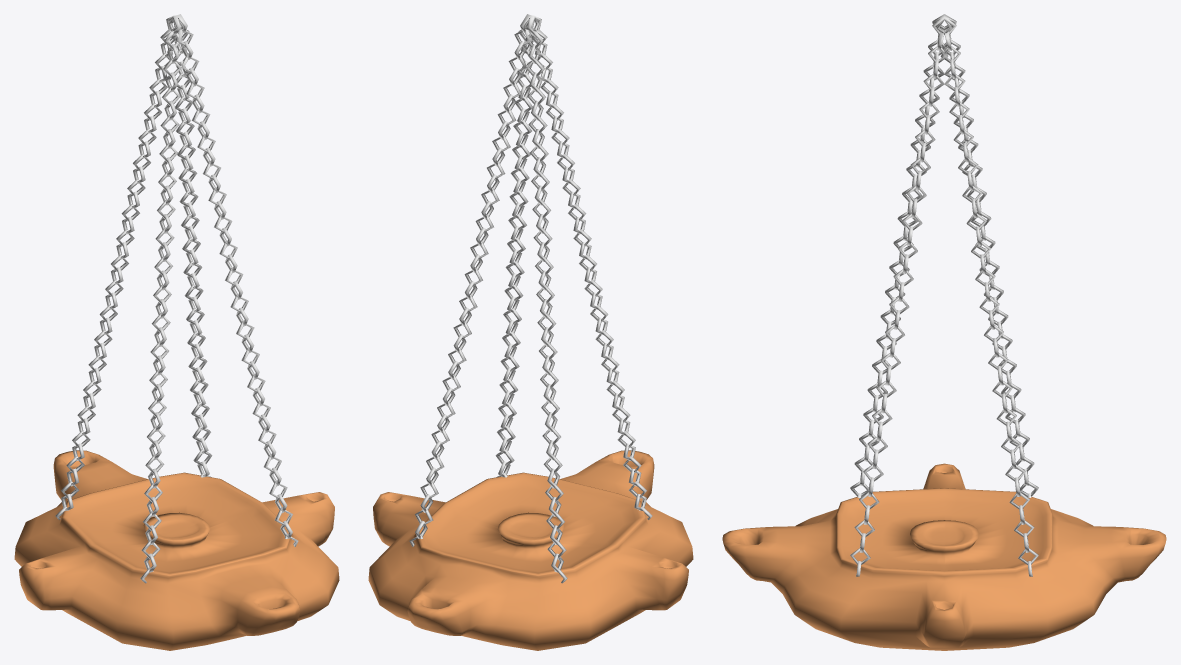
Rendered from LamparaTecho.fbx.
3 views of the same model, side by side, from view 1: azimuth 30°, elevation 25°; view 2: azimuth 150°, elevation 25°; view 3: azimuth 270°, elevation 25° (orthographic).
Parts seen in each view (by area): view 1: Cube.035, Cube.036; view 2: Cube.035, Cube.036; view 3: Cube.035, Cube.036.
Boxes of the visible parts, bbox=[...] form: Cube.035: bbox=[14, 450, 339, 650]; Cube.036: bbox=[55, 14, 298, 583]; Cube.035: bbox=[368, 450, 693, 650]; Cube.036: bbox=[409, 14, 652, 583]; Cube.035: bbox=[722, 463, 1166, 650]; Cube.036: bbox=[850, 14, 1038, 576].
Bounding box in the file's own units: 91.09 × 168 × 113.
